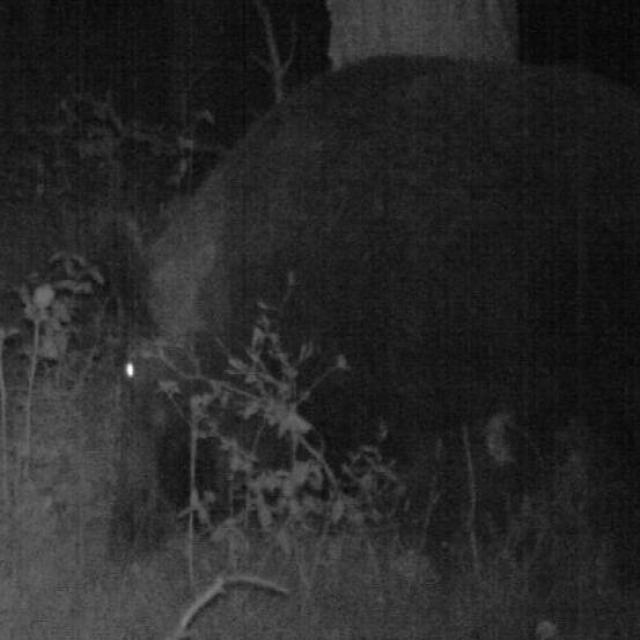pig: (138, 34, 640, 558)
